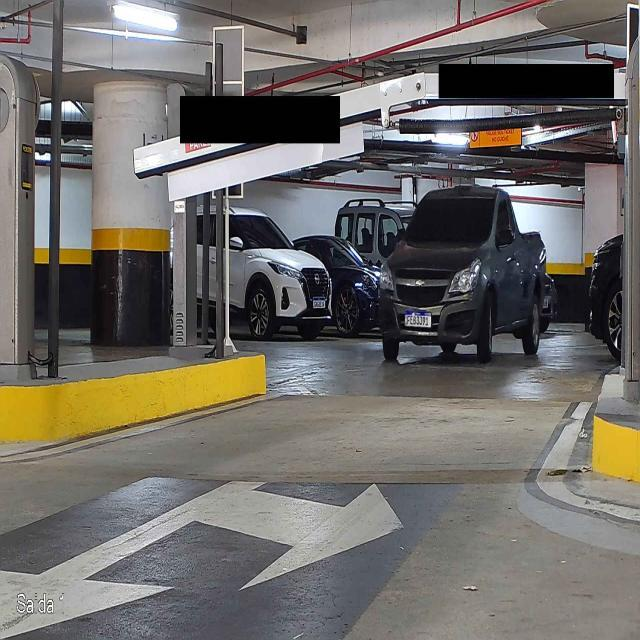mercosul_plate: (404, 310, 432, 328)
